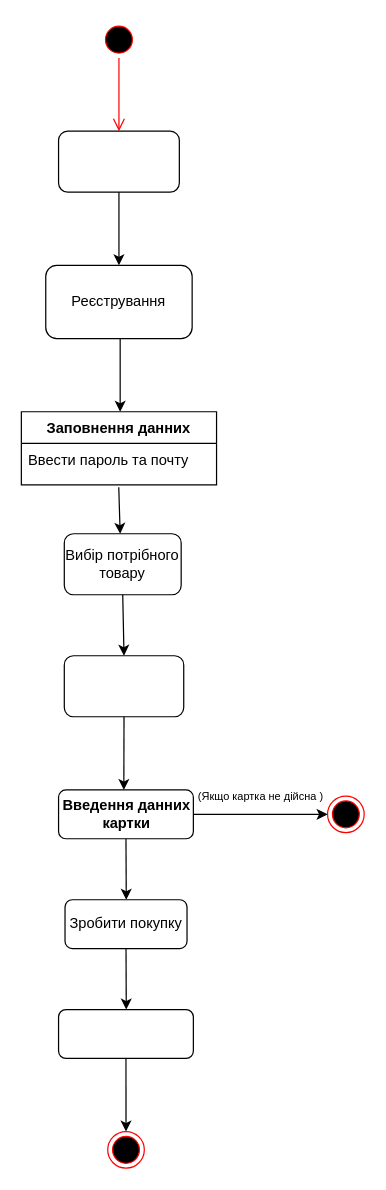
Some shapes in this 386 by 1190 pixel diagram are drawn without their labels. Here are the shapes that lost their labels. From the top down, the centre of each, then its label:
At (x=118, y=161): "Вхід на сайт".
At (x=123, y=686): "Добавлення вибраного товару в корзину".
At (x=125, y=1033): "Забрати покупку".
